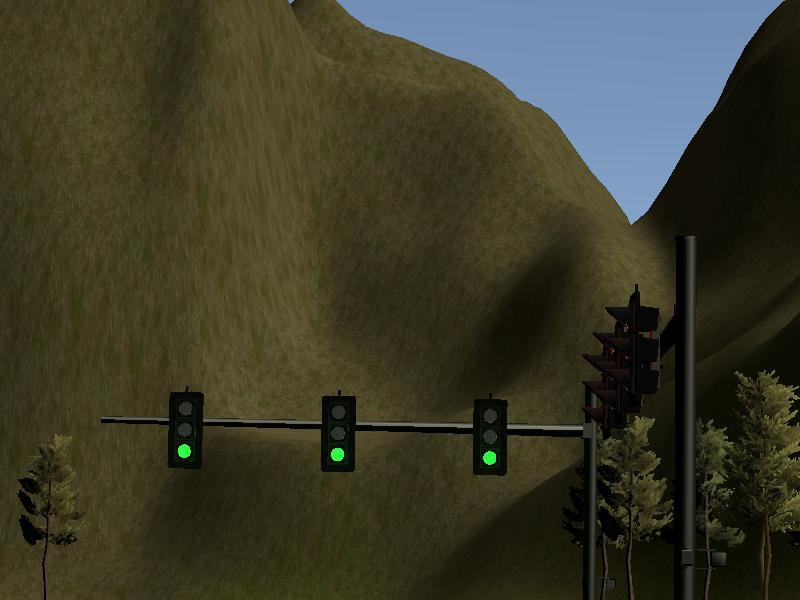green_light: (475, 401, 506, 474), (323, 398, 354, 470), (171, 394, 200, 467)
